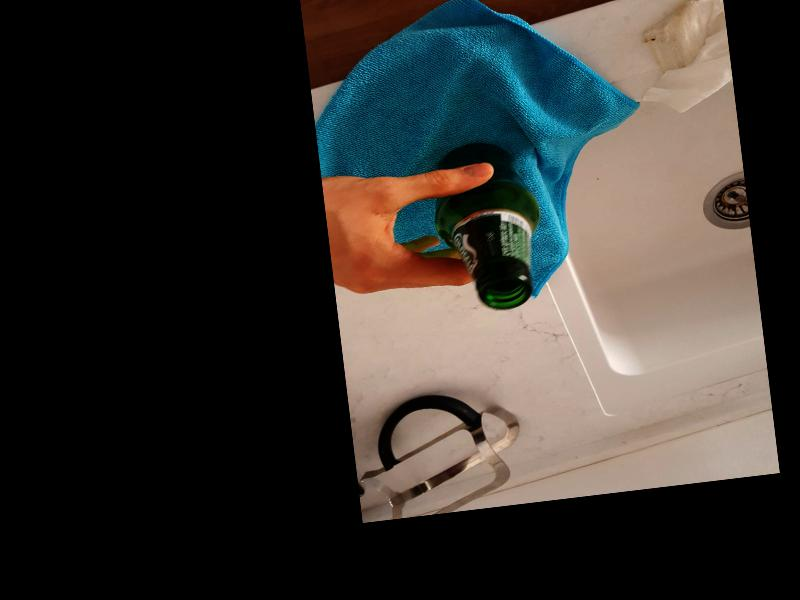Beer: (434, 135, 548, 312)
